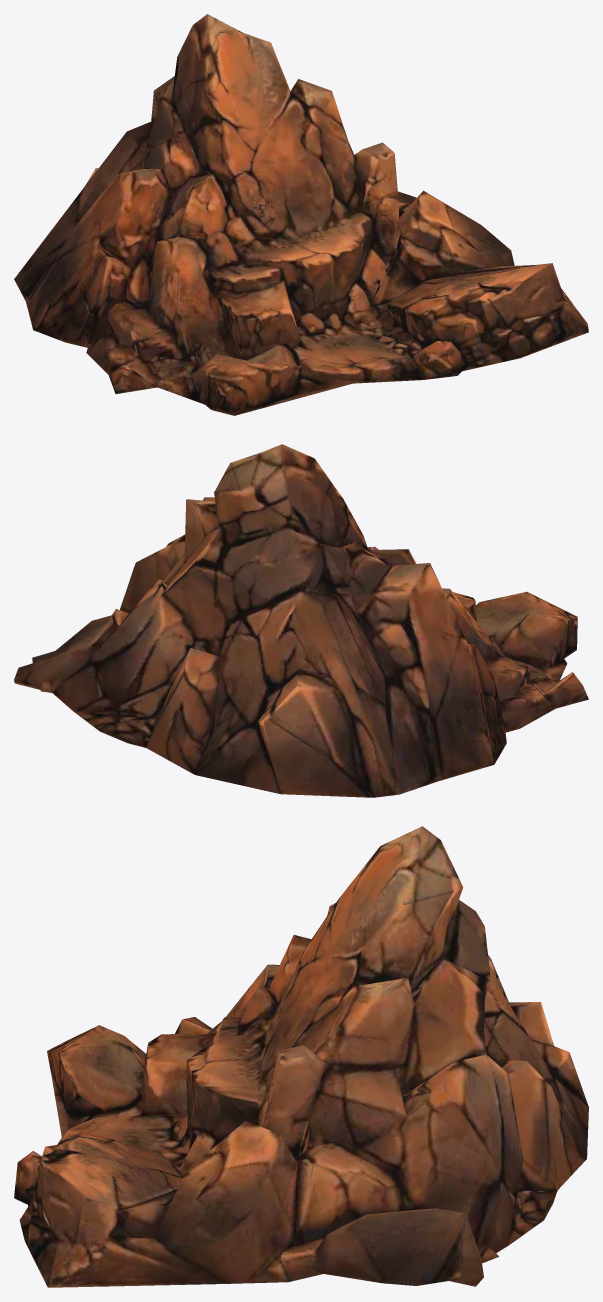
The model's file is rockpile.glb.
The picture shows the model from 3 angles, top to bottom: view 1: azimuth 30°, elevation 25°; view 2: azimuth 150°, elevation 25°; view 3: azimuth 270°, elevation 25°; orthographic projection. The views are drawn at different scales.
Parts seen in each view (by area): view 1: Mesh_0; view 2: Mesh_0; view 3: Mesh_0.
Boxes of the visible parts, <box> form: Mesh_0: <box>14,14,588,415</box>; Mesh_0: <box>14,444,588,797</box>; Mesh_0: <box>14,826,588,1287</box>.
Size of the model in its own units: 1.89 by 1.12 by 1.8.
1 material, 1 textured.
